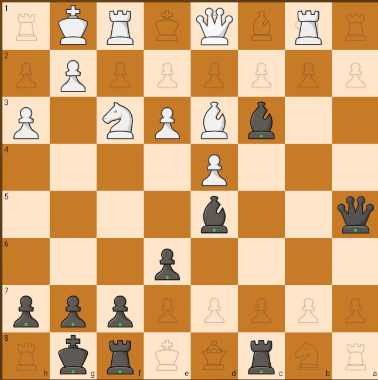bb: (242, 98, 279, 140)
bk: (51, 333, 96, 379)
bp: (148, 240, 189, 283), (5, 289, 43, 329), (53, 289, 91, 329), (102, 290, 139, 330)
bq: (196, 194, 235, 236), (336, 194, 375, 235)
br: (240, 334, 283, 376), (101, 337, 141, 377)
wb: (194, 99, 232, 141)
wk: (52, 2, 92, 48)
wn: (98, 99, 138, 142)
wp: (3, 98, 47, 142), (53, 50, 93, 96), (150, 100, 185, 144), (197, 150, 231, 186)
wq: (193, 4, 236, 46)
wr: (289, 5, 331, 48), (101, 7, 142, 50)
